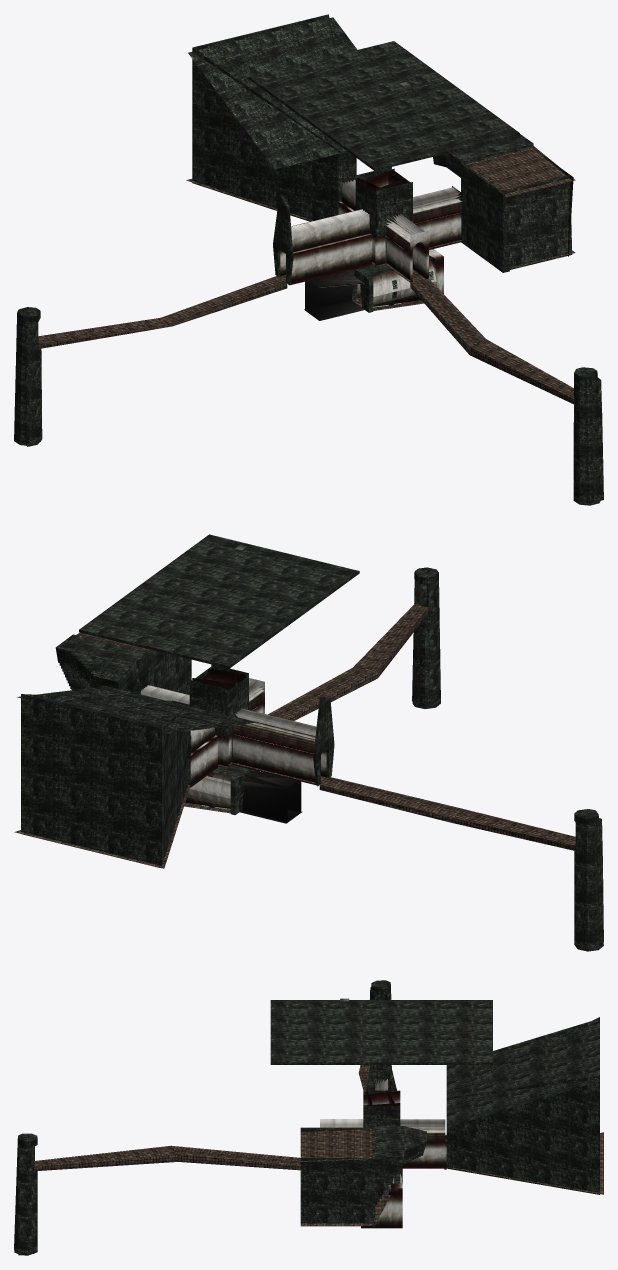
Rendered from PD_hall.obj.
3 views of the same model, one above another, from view 1: azimuth 30°, elevation 25°; view 2: azimuth 150°, elevation 25°; view 3: azimuth 270°, elevation 25° (orthographic). The views are drawn at different scales.
Parts seen in each view (by area): view 1: grp949, grp443, grp441, grp205, grp198, grp204, grp958, grp1059, grp804, grp792, grp62, grp570 (+13 smaller); view 2: grp444, grp949, grp443, grp441, grp953, grp804, grp1255, grp198, grp570, grp792, grp867, grp194 (+14 smaller); view 3: grp949, grp442, grp443, grp197, grp204, grp570, grp792, grp513, grp867, grp568, grp1096, grp961 (+10 smaller).
Part boxes in pixels (bbox=[...]): grp949: bbox=[249, 41, 519, 168]; grp443: bbox=[188, 17, 357, 169]; grp441: bbox=[192, 48, 340, 221]; grp205: bbox=[502, 175, 572, 269]; grp198: bbox=[462, 165, 502, 272]; grp204: bbox=[465, 147, 575, 197]; grp958: bbox=[289, 234, 371, 285]; grp1059: bbox=[291, 214, 369, 252]; grp804: bbox=[161, 276, 286, 326]; grp792: bbox=[411, 278, 485, 346]; grp62: bbox=[376, 182, 412, 238]; grp570: bbox=[470, 339, 573, 399]; grp444: bbox=[21, 694, 161, 867]; grp949: bbox=[79, 534, 358, 666]; grp443: bbox=[16, 686, 255, 733]; grp441: bbox=[162, 705, 188, 864]; grp953: bbox=[232, 734, 315, 784]; grp804: bbox=[320, 777, 464, 818]; grp1255: bbox=[242, 773, 287, 822]; grp198: bbox=[149, 650, 191, 694]; grp570: bbox=[353, 604, 428, 669]; grp792: bbox=[268, 667, 377, 719]; grp867: bbox=[56, 634, 147, 665]; grp194: bbox=[453, 809, 575, 845]; grp949: bbox=[270, 1000, 492, 1062]; grp442: bbox=[446, 1075, 599, 1194]; grp443: bbox=[446, 1020, 599, 1127]; grp197: bbox=[300, 1158, 372, 1223]; grp204: bbox=[300, 1129, 372, 1162]; grp570: bbox=[34, 1146, 177, 1166]; grp792: bbox=[171, 1145, 300, 1165]; grp513: bbox=[18, 1148, 28, 1255]; grp867: bbox=[375, 1125, 404, 1157]; grp568: bbox=[34, 1154, 177, 1171]; grp1096: bbox=[361, 1188, 402, 1228]; grp961: bbox=[401, 1141, 446, 1168].
Size of what is drawn, in the model's own units: 7238 by 3808 by 8158.
